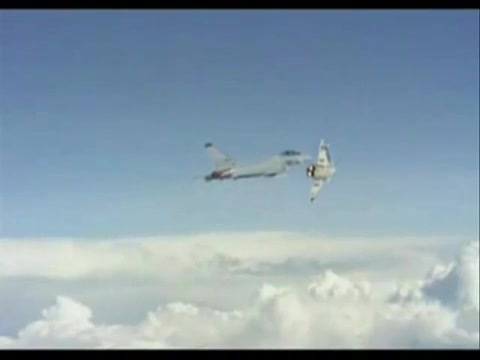aeroplane: (204, 143, 314, 183)
